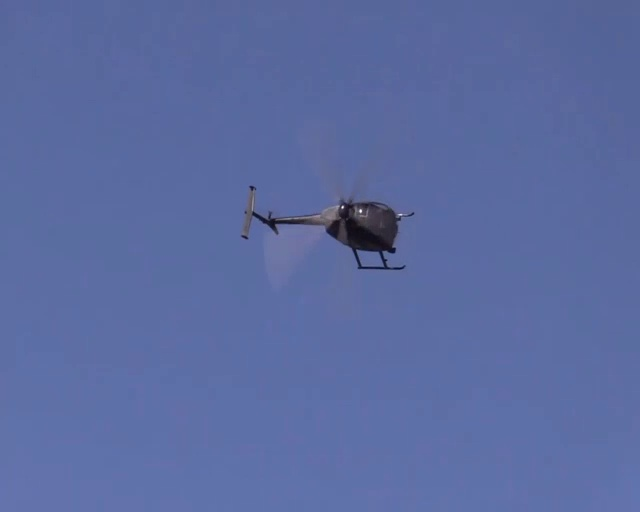HELICOPTER: (242, 186, 416, 271)
